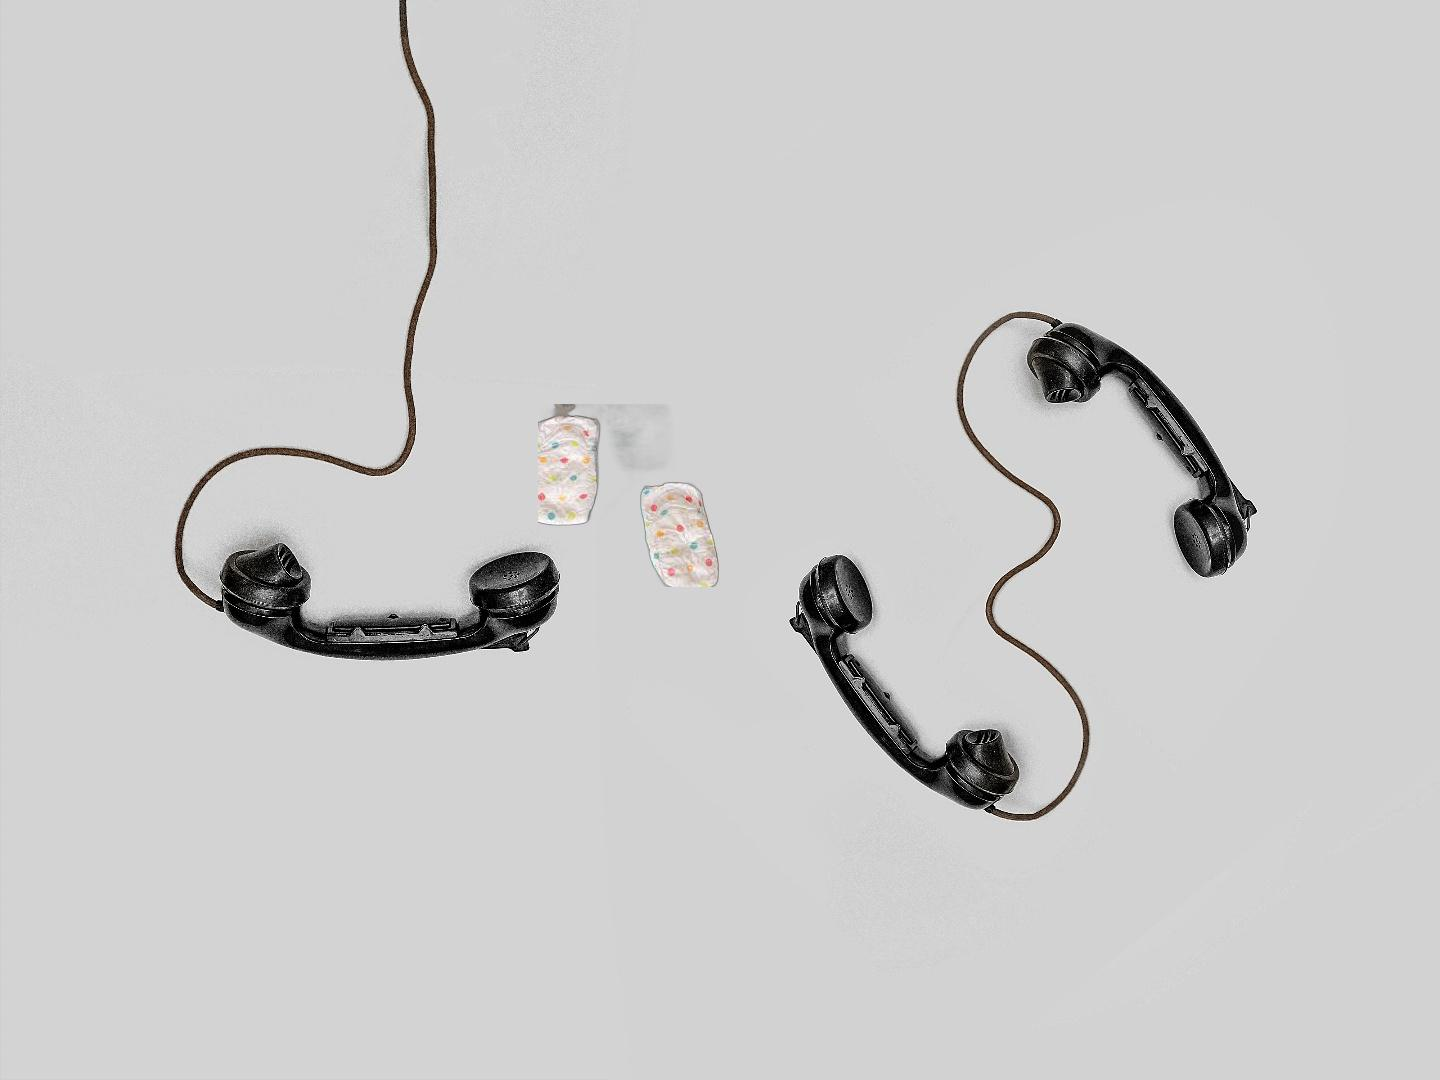trash: (537, 404, 721, 587)
